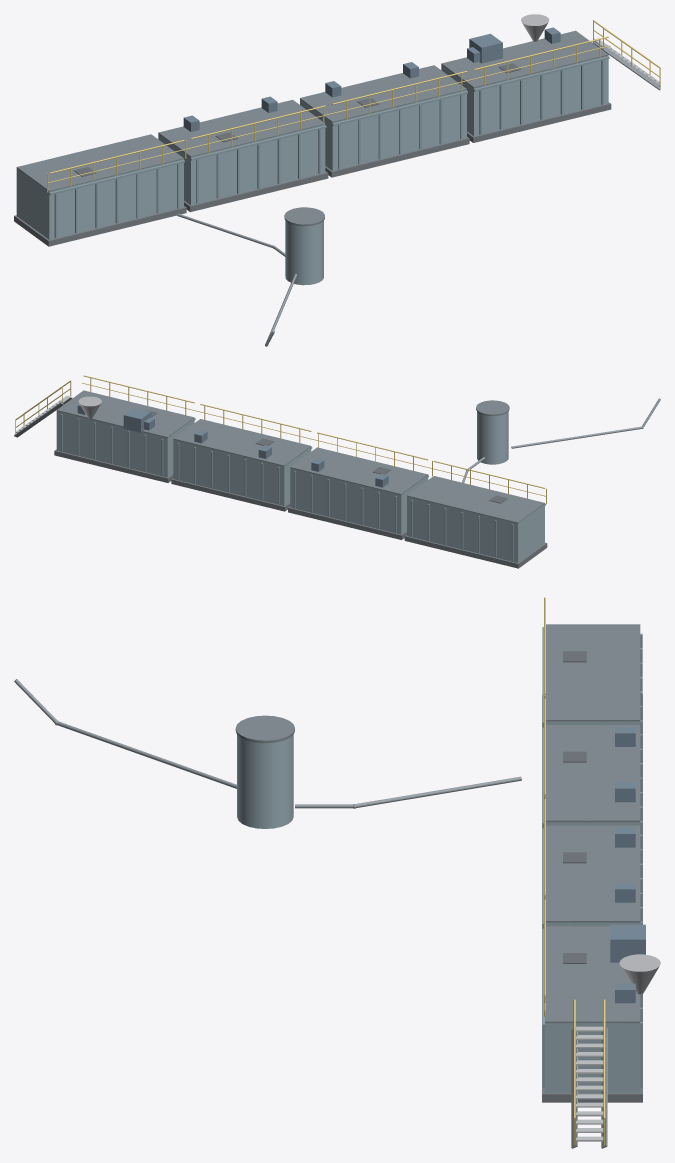
The model's file is tanks.glb.
3 renders of one model, top to bottom at view 1: azimuth 30°, elevation 25°; view 2: azimuth 150°, elevation 25°; view 3: azimuth 270°, elevation 25°, orthographic. The views are drawn at different scales.
Visible parts, largest first — view 1: object 2, inst (×3), object 12, object 6, object 18, object 3, object 7, object 13, object 19, object 25, object 1, object 5 (+6 smaller); view 2: object 2, object 18, object 12, object 6, inst (×3), object 3, object 7, object 13, object 19, object 25, object 1, object 11 (+7 smaller); view 3: object 3, object 13, object 7, object 19, inst (×3), object 18, object 25, object 26, object 24, object 23, object 17, object 30 (+1 smaller).
Part boxes in pixels (left/top/right/bottom): object 2: left=16, top=159, right=183, bottom=239; inst (×3): left=47, top=40, right=609, bottom=238; object 12: left=300, top=90, right=466, bottom=170; object 6: left=158, top=124, right=325, bottom=205; object 18: left=441, top=55, right=608, bottom=136; object 3: left=16, top=134, right=183, bottom=191; object 7: left=158, top=99, right=325, bottom=157; object 13: left=300, top=65, right=466, bottom=122; object 19: left=441, top=30, right=608, bottom=88; object 25: left=285, top=220, right=323, bottom=285; object 1: left=14, top=206, right=186, bottom=246; object 5: left=184, top=171, right=328, bottom=212; object 2: left=407, top=496, right=544, bottom=562; object 18: left=56, top=411, right=194, bottom=477; object 12: left=173, top=439, right=311, bottom=505; object 6: left=290, top=468, right=428, bottom=534; inst (×3): left=60, top=378, right=546, bottom=561; object 3: left=407, top=476, right=544, bottom=523; object 7: left=290, top=447, right=428, bottom=494; object 13: left=173, top=419, right=311, bottom=466; object 19: left=56, top=390, right=194, bottom=437; object 25: left=477, top=411, right=508, bottom=464; object 1: left=404, top=535, right=547, bottom=568; object 11: left=171, top=478, right=290, bottom=511; object 3: left=545, top=624, right=640, bottom=721; object 13: left=545, top=825, right=640, bottom=922; object 7: left=545, top=725, right=640, bottom=822; object 19: left=545, top=926, right=640, bottom=1023; inst (×3): left=542, top=627, right=642, bottom=1141; object 18: left=545, top=1023, right=640, bottom=1092; object 25: left=237, top=735, right=293, bottom=828; object 26: left=235, top=715, right=294, bottom=743; object 24: left=610, top=924, right=645, bottom=962; object 23: left=619, top=954, right=660, bottom=994; object 17: left=542, top=996, right=642, bottom=1102; object 30: left=57, top=721, right=236, bottom=788.
Size of the model in its own units: 35.3 by 4.22 by 21.75.
